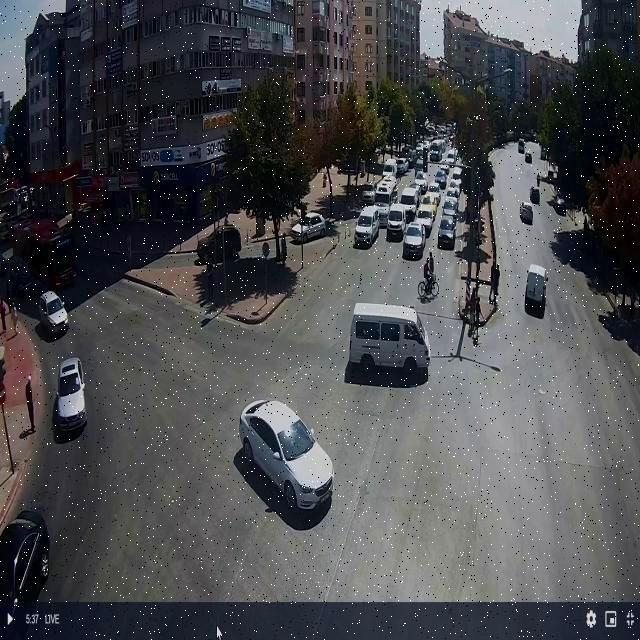Car: (239, 398, 333, 511), (348, 302, 430, 377), (0, 510, 50, 610), (52, 357, 86, 435), (196, 225, 242, 265), (38, 290, 68, 336), (524, 264, 548, 316), (290, 213, 328, 243), (354, 206, 381, 247), (402, 222, 427, 258), (386, 203, 410, 238), (374, 175, 398, 204), (412, 208, 434, 239), (438, 217, 458, 250), (398, 187, 420, 217), (420, 191, 440, 215), (372, 200, 390, 224), (442, 198, 459, 219), (519, 202, 533, 224), (382, 159, 398, 178), (361, 184, 376, 204), (427, 181, 442, 201), (338, 162, 360, 175), (413, 176, 428, 195), (552, 195, 566, 215), (395, 157, 409, 175), (364, 160, 382, 174), (434, 170, 448, 187), (445, 188, 459, 205), (448, 179, 462, 195), (415, 144, 426, 164), (445, 148, 457, 166), (431, 138, 446, 152), (451, 166, 463, 182), (530, 186, 540, 204), (7, 178, 22, 190), (405, 152, 416, 168), (443, 124, 455, 138), (0, 343, 6, 368), (415, 171, 426, 184), (439, 163, 450, 175), (402, 146, 414, 157), (28, 187, 36, 203), (505, 130, 515, 142), (382, 144, 394, 154), (540, 146, 550, 158), (549, 168, 558, 181), (492, 136, 502, 147), (528, 131, 538, 140), (426, 125, 435, 135), (518, 139, 524, 153), (446, 134, 454, 144), (525, 152, 532, 163), (374, 147, 383, 155), (424, 119, 430, 128)
